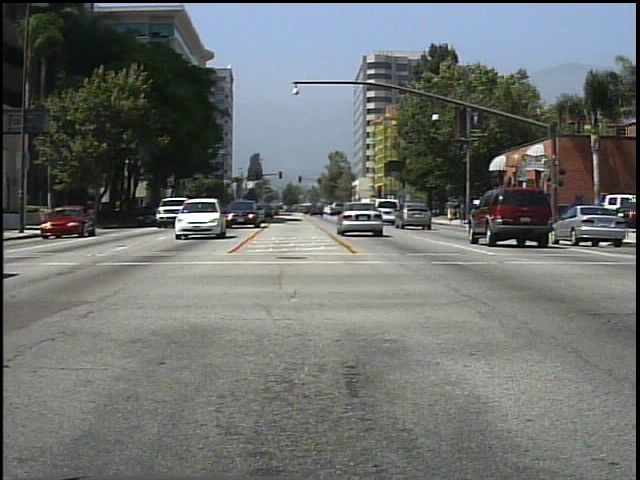person: (482, 194, 501, 229), (445, 195, 458, 224)
